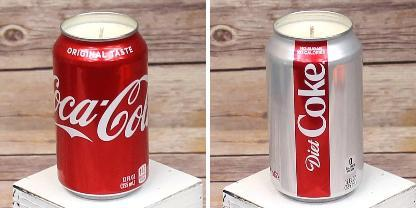Can: (265, 9, 365, 203), (52, 11, 150, 199)
